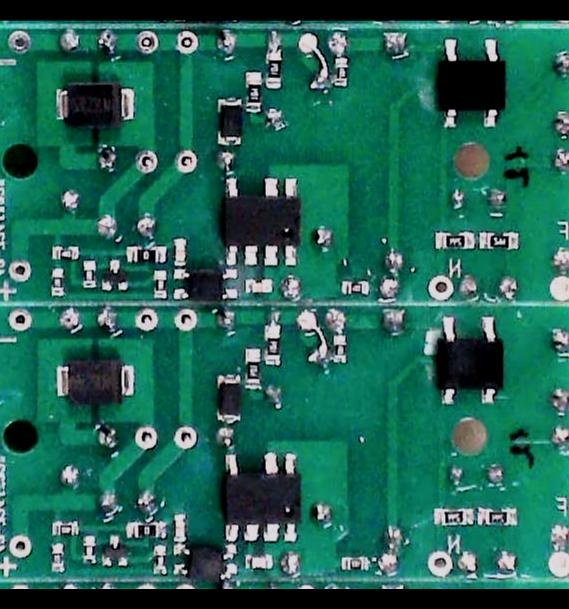chip-capacitor: (244, 276, 275, 295), (171, 511, 188, 543), (244, 553, 275, 570), (172, 235, 188, 266)
chip-resistor: (475, 506, 519, 529), (433, 229, 477, 251), (243, 69, 263, 115), (432, 507, 475, 528), (125, 519, 168, 540), (479, 229, 520, 251), (244, 344, 263, 391), (262, 323, 282, 367), (125, 244, 168, 264), (264, 46, 283, 89), (49, 540, 67, 574), (339, 278, 371, 297), (50, 243, 80, 263), (339, 554, 371, 572), (82, 534, 99, 567), (333, 56, 349, 90), (81, 258, 98, 290), (49, 266, 66, 298), (50, 519, 80, 537), (332, 334, 349, 365), (152, 270, 168, 300), (152, 544, 167, 575)
diode: (53, 355, 138, 407), (53, 81, 138, 130), (214, 95, 246, 149), (214, 370, 242, 425)
ic: (218, 173, 303, 267), (221, 452, 302, 544), (437, 36, 509, 130), (438, 314, 506, 406), (170, 542, 238, 580), (171, 267, 240, 302)
transistor: (99, 258, 131, 293), (101, 534, 129, 568)
